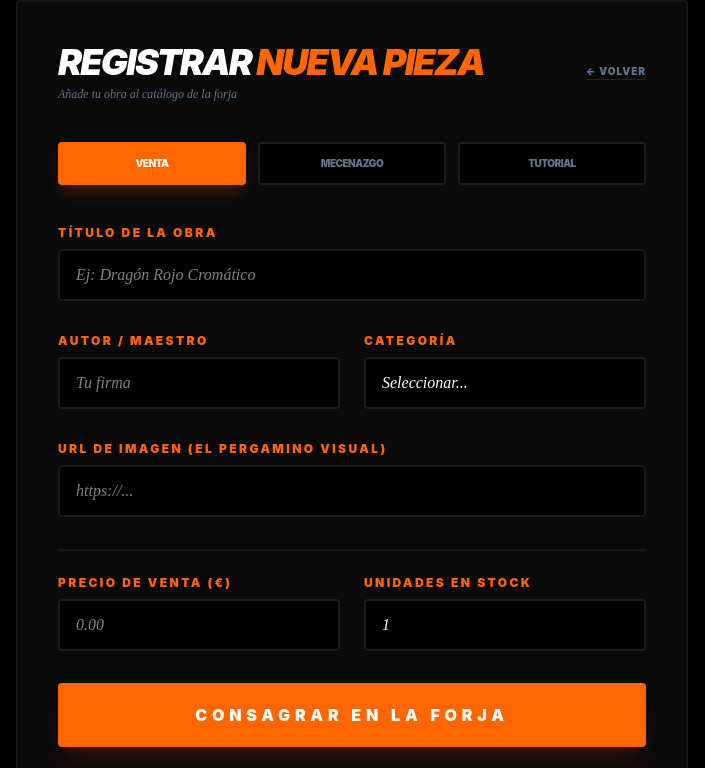
Test: NuevoProducto — campos dinámicos por tipo › al cambiar a MECENAZGO aparece el campo meta (placeholder 5000)
Click the button "MECENAZGO": (352, 164) [258,142,446,185]
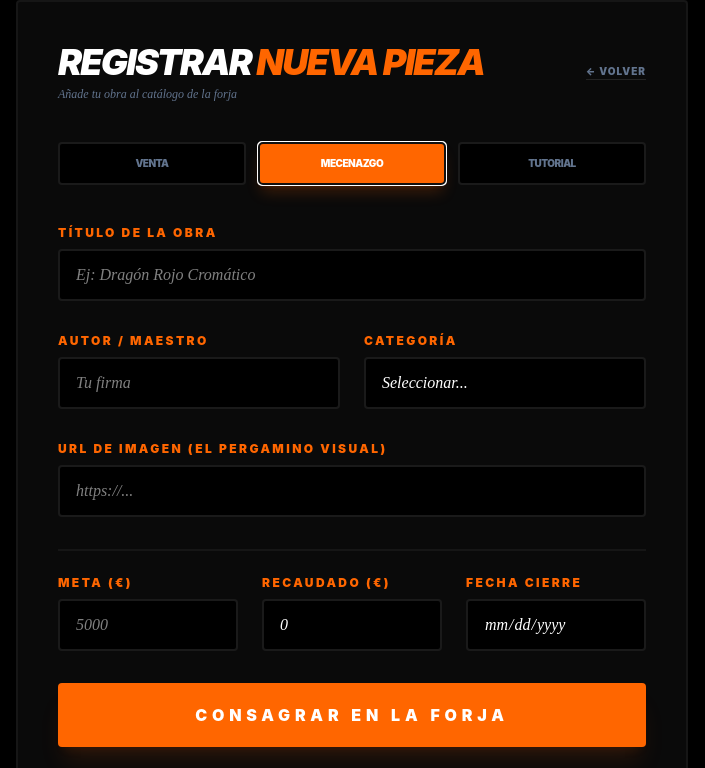
Now the number field with placeholder "5000" is shown, box [58,599,238,651]
